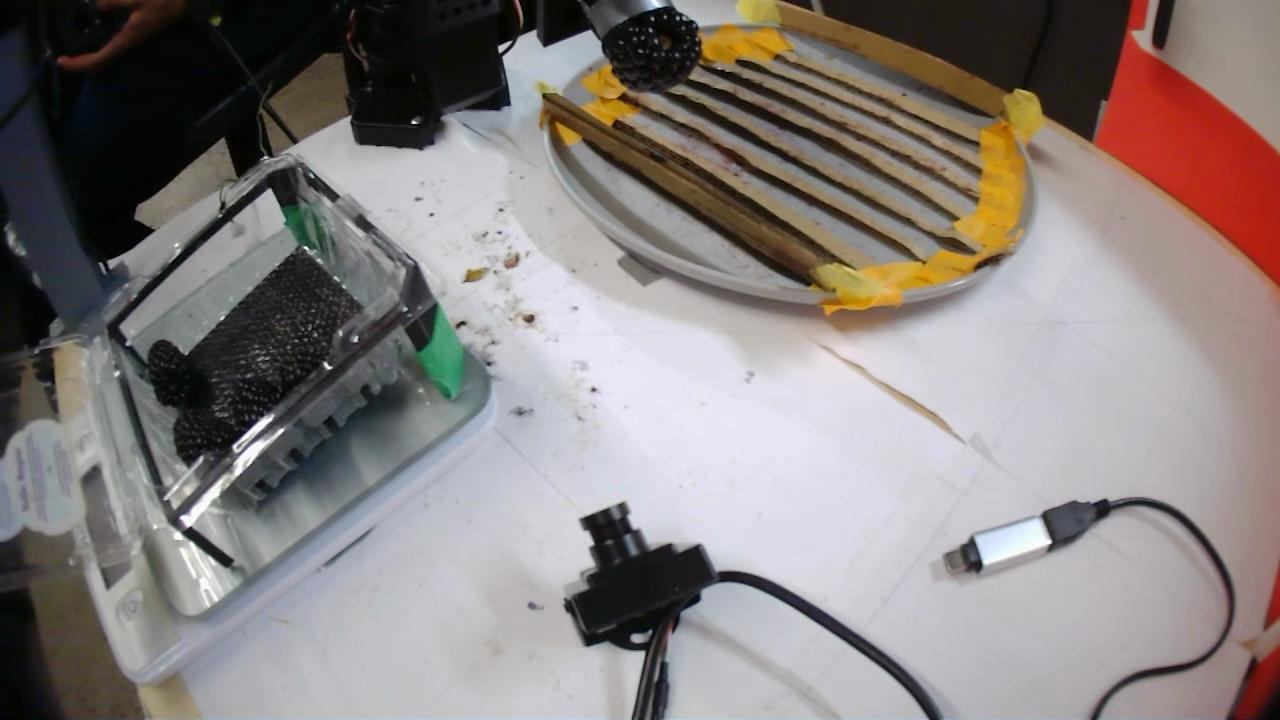berry: (607, 8, 701, 91), (147, 340, 212, 410), (173, 408, 242, 463), (229, 378, 283, 433), (279, 352, 325, 398)
